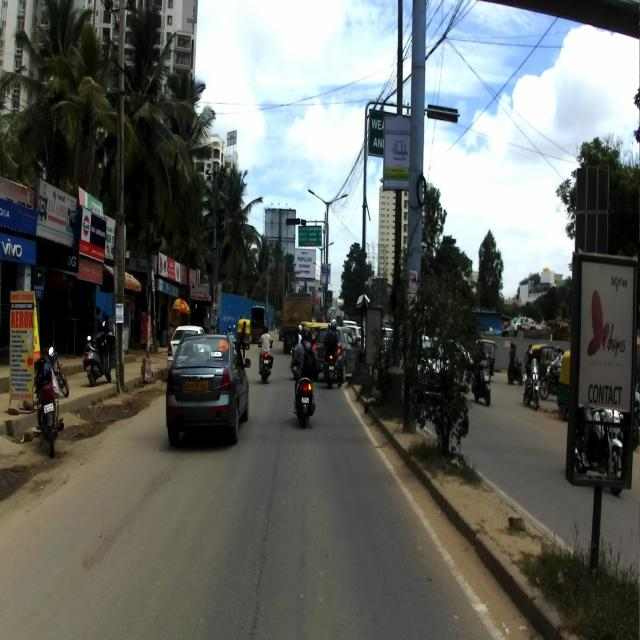car: (165, 332, 250, 450)
motorcycle: (33, 344, 63, 457)
scooter: (290, 346, 318, 429), (82, 319, 112, 386)
